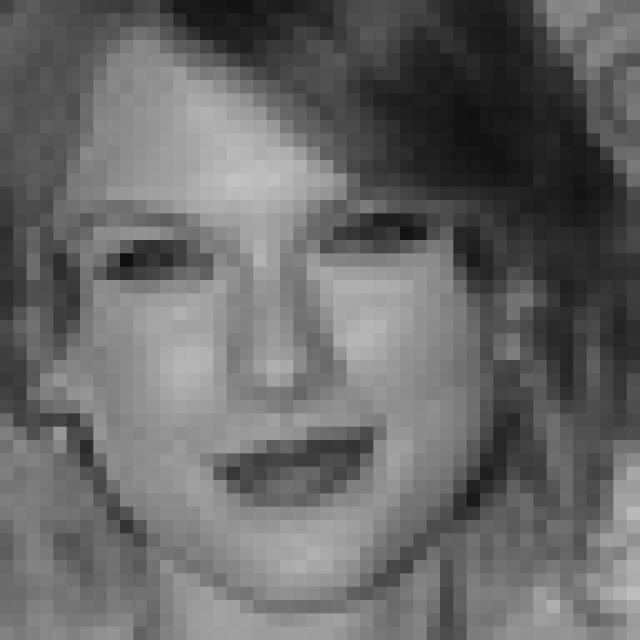neutral: (82, 172, 443, 519)
